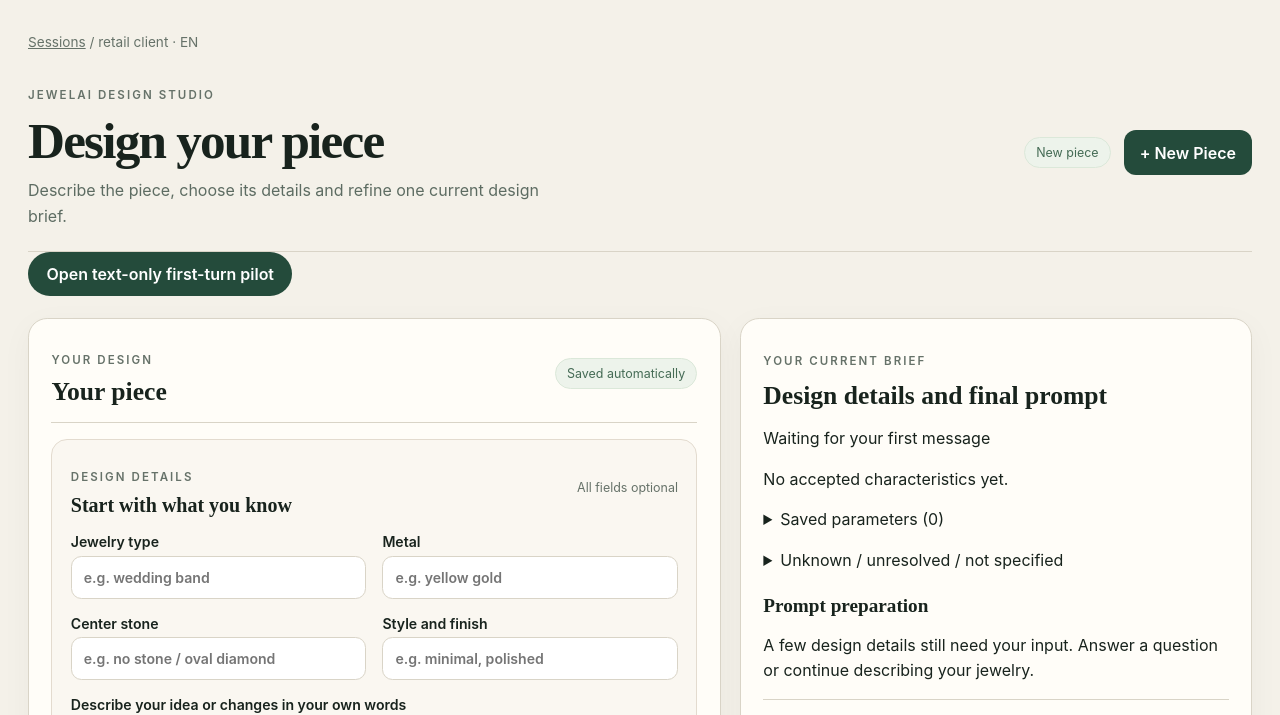
Test: isolated first-turn pilot › cancel returns to unchanged legacy form without writes
Step 1. Click the button "Open text-only first-turn pilot" → coordinates (160, 274), box [28,252,292,296]
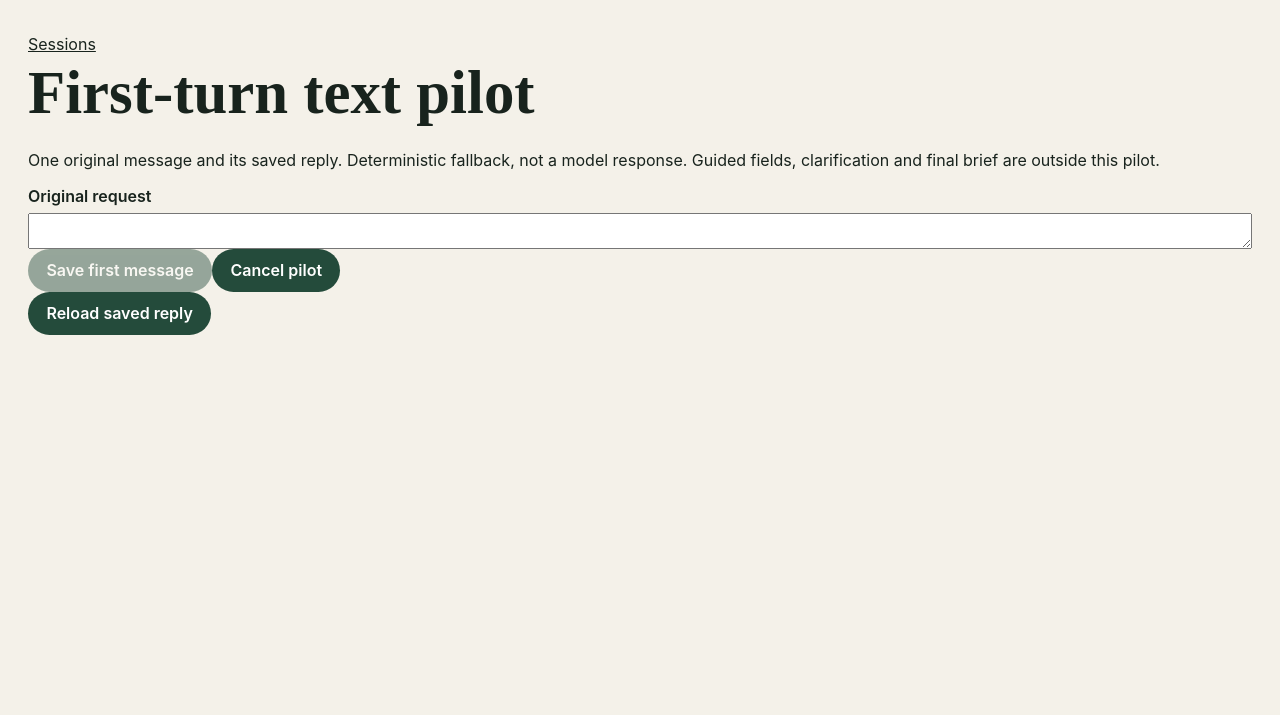
Step 2. Click the button "Cancel pilot" → coordinates (276, 270), box [212,249,340,292]
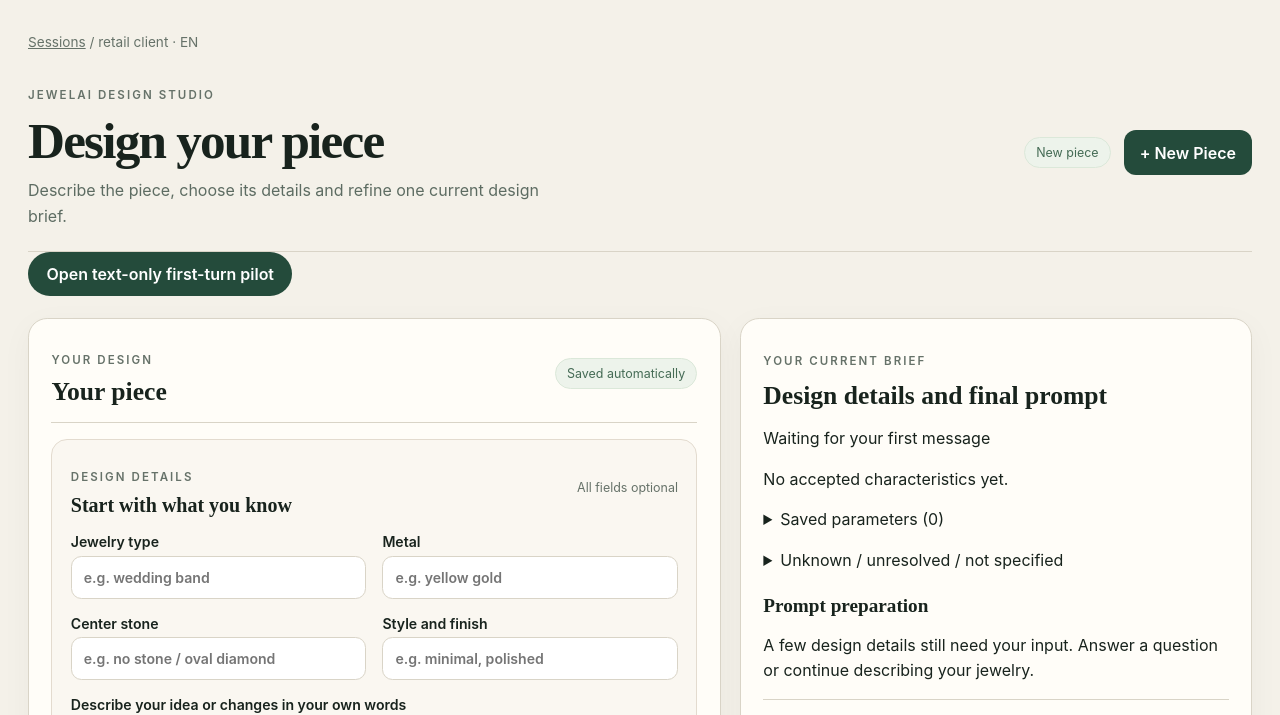
Result: the field labelled "Center stone" is shown at [71,637,366,680]
